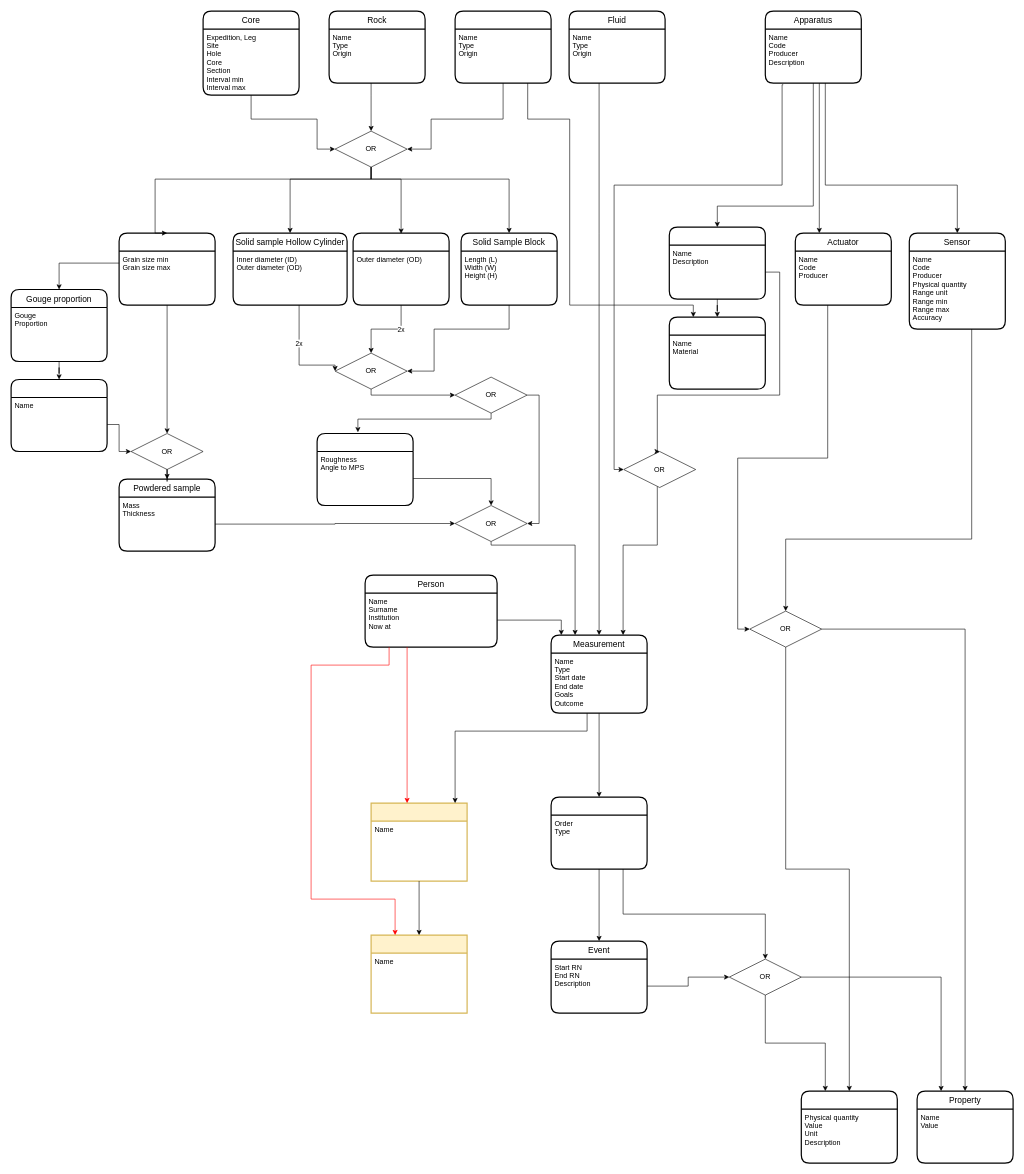
Image size: 1024x1174. Some labels were removed from this diagram. The shapes that lost their labels are listed below. From the top down, each one's box as (x1, y1, x2, y2) in pixels, then its label:
(454, 10, 551, 83): Artificial material
(118, 232, 215, 305): Gouge
(352, 232, 449, 305): Solid sample Cylinder
(668, 226, 766, 299): Assembly
(668, 316, 766, 389): Component
(10, 379, 107, 452): Gouge mixture
(316, 433, 413, 506): Sawcut
(370, 802, 467, 881): Dataset
(550, 796, 647, 869): Step
(370, 934, 467, 1013): Reduced Dataset
(800, 1090, 898, 1163): Variable
